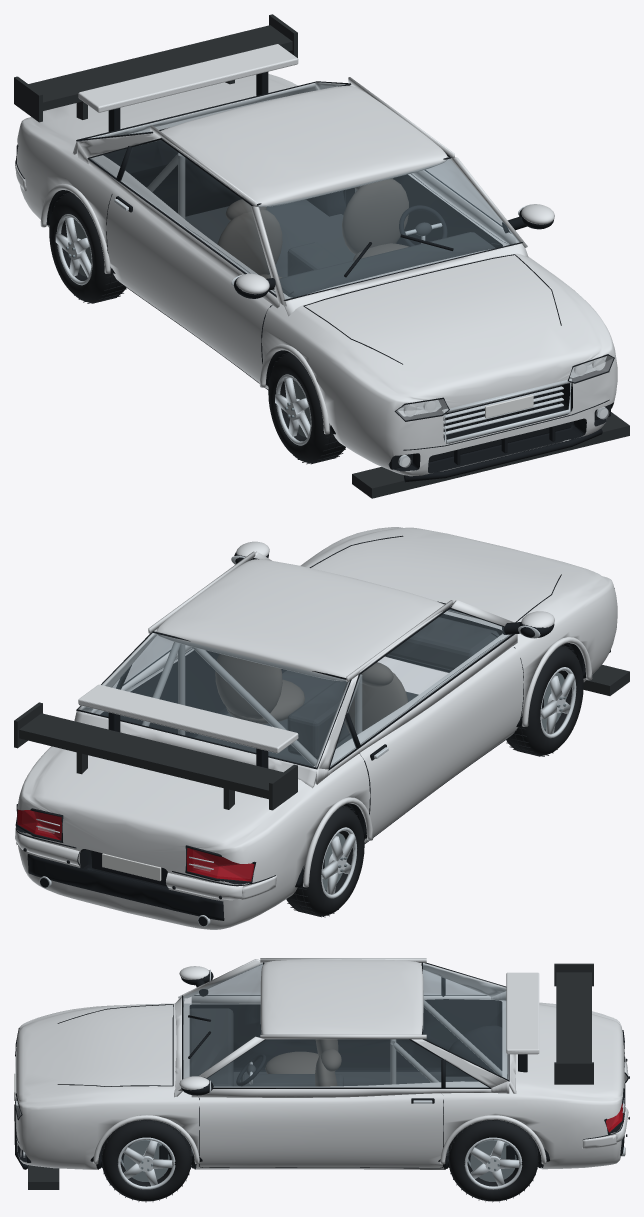
Rendered from road-apex-clubsport.glb.
3 renders of one model, top to bottom at view 1: azimuth 30°, elevation 25°; view 2: azimuth 150°, elevation 25°; view 3: azimuth 270°, elevation 25°, orthographic. The views are drawn at different scales.
Visible parts, largest first — view 1: Aerodynamic mirror painted cap, Raked transparent windscreen, Aerodynamic mirror lower housing, ClubSport splitter, Center console, Contoured seat back, Door pull, Original tyre carcass and shaped sidewalls.001, Original tyre carcass and shaped sidewalls.003, Clear reversing lens insert, Cast swept alloy spoke.015, Cast swept alloy spoke.005 (+1 smaller); view 2: Aerodynamic mirror painted cap, Raked transparent windscreen, Aerodynamic mirror lower housing, ClubSport splitter, Center console, Contoured seat back, Original tyre carcass and shaped sidewalls.003, Original tyre carcass and shaped sidewalls.001, Competition roll hoop upright, Flush corner wrapping ruby lamp lens, Cast swept alloy spoke.005, Cast swept alloy spoke.015 (+2 smaller); view 3: Aerodynamic mirror painted cap, Raked transparent windscreen, Aerodynamic mirror lower housing, Center console, ClubSport splitter, Original tyre carcass and shaped sidewalls.002, Original tyre carcass and shaped sidewalls, Contoured seat back, Cast swept alloy spoke, Cast swept alloy spoke.010, Competition roll hoop upright, Deep wheel barrel inner lip.002 (+2 smaller).
Boxes of the visible parts, box(x1,y1,x2,y2) form: Aerodynamic mirror painted cap: box(15, 44, 617, 476); Raked transparent windscreen: box(90, 83, 519, 299); Aerodynamic mirror lower housing: box(15, 72, 614, 482); ClubSport splitter: box(14, 14, 629, 498); Center console: box(185, 199, 495, 297); Contoured seat back: box(217, 178, 408, 278); Door pull: box(114, 199, 607, 466); Original tyre carcass and shaped sidewalls.001: box(268, 353, 345, 463); Original tyre carcass and shaped sidewalls.003: box(49, 192, 126, 302); Clear reversing lens insert: box(396, 355, 613, 467); Cast swept alloy spoke.015: box(55, 214, 92, 285); Cast swept alloy spoke.005: box(275, 374, 311, 445); Aerodynamic mirror painted cap: box(15, 527, 617, 929); Raked transparent windscreen: box(79, 609, 510, 766); Aerodynamic mirror lower housing: box(15, 535, 614, 926); ClubSport splitter: box(14, 664, 629, 810); Center console: box(195, 617, 499, 766); Contoured seat back: box(215, 654, 408, 734); Original tyre carcass and shaped sidewalls.003: box(286, 806, 364, 916); Original tyre carcass and shaped sidewalls.001: box(506, 646, 583, 755); Competition roll hoop upright: box(142, 642, 362, 766); Flush corner wrapping ruby lamp lens: box(17, 809, 254, 881); Cast swept alloy spoke.005: box(540, 667, 576, 738); Cast swept alloy spoke.015: box(321, 827, 356, 898); Aerodynamic mirror painted cap: box(15, 958, 628, 1169); Raked transparent windscreen: box(183, 963, 508, 1087); Aerodynamic mirror lower housing: box(14, 962, 629, 1169); Center console: box(189, 1008, 478, 1156); ClubSport splitter: box(28, 963, 593, 1189); Original tyre carcass and shaped sidewalls.002: box(449, 1120, 537, 1201); Original tyre carcass and shaped sidewalls: box(102, 1120, 191, 1201); Contoured seat back: box(265, 1039, 341, 1086); Cast swept alloy spoke: box(117, 1137, 175, 1189); Cast swept alloy spoke.010: box(464, 1137, 522, 1189); Competition roll hoop upright: box(390, 1000, 502, 1084); Deep wheel barrel inner lip.002: box(467, 1140, 518, 1181).
Size of the model in its own units: 2.09 by 1.29 by 4.49.
